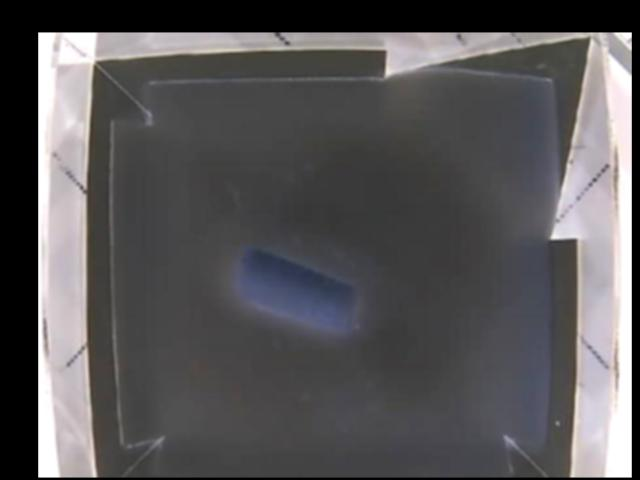Mooli: (239, 245, 355, 328)
